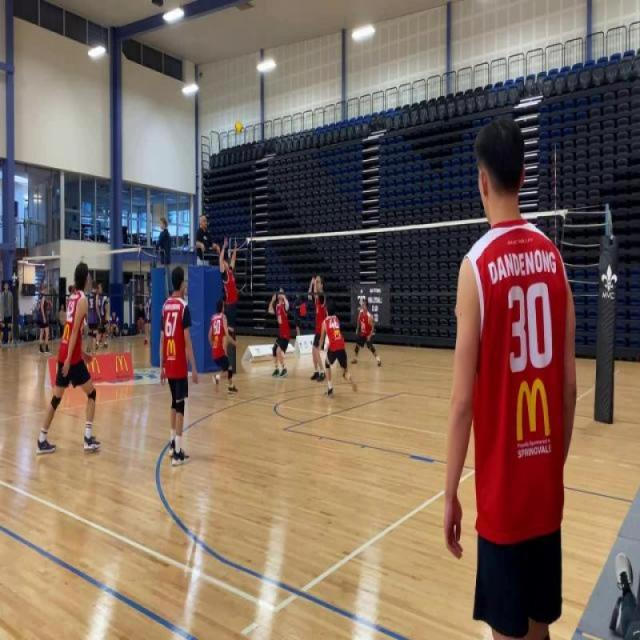volleyball: (233, 119, 244, 134)
